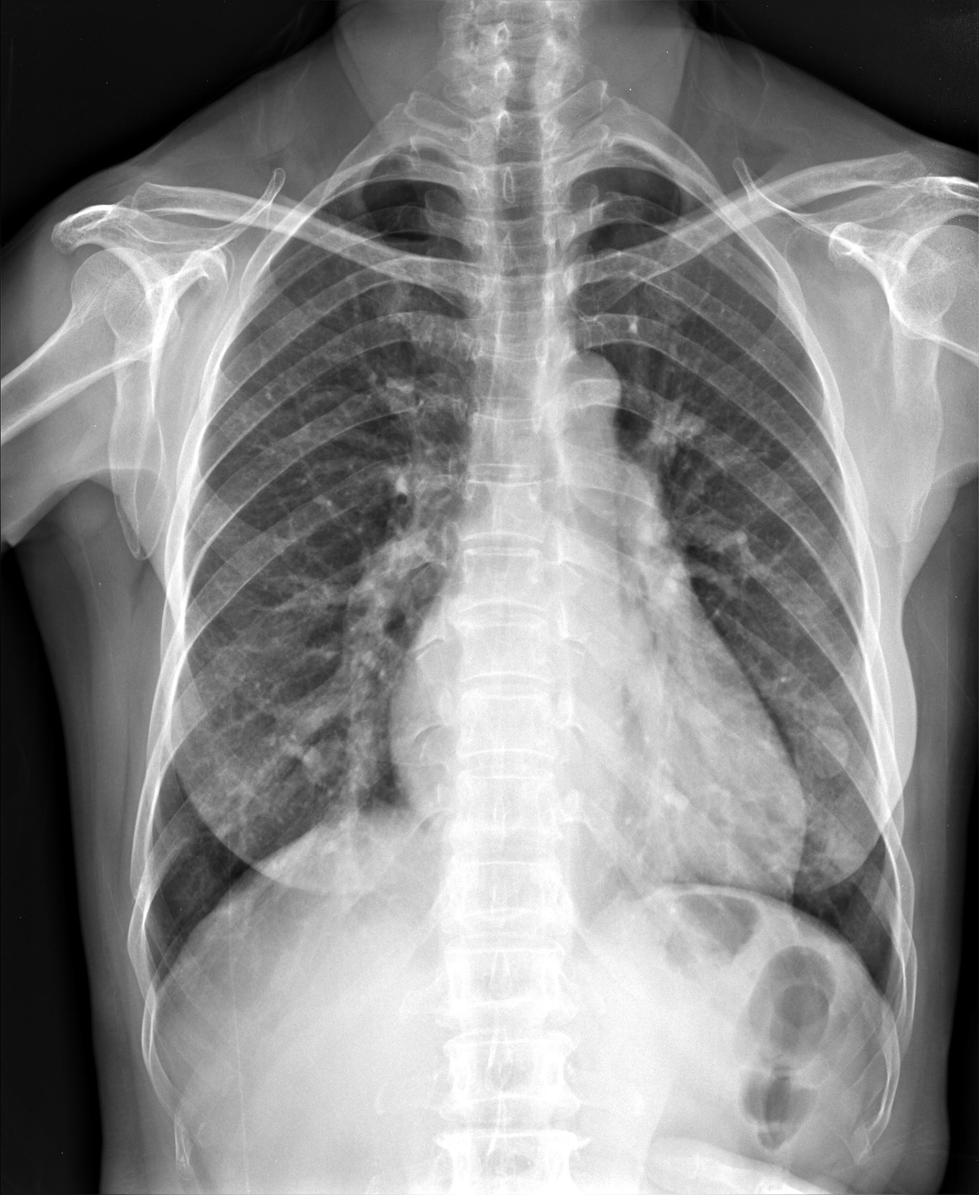Cardiomegaly: (386, 677, 810, 905)
